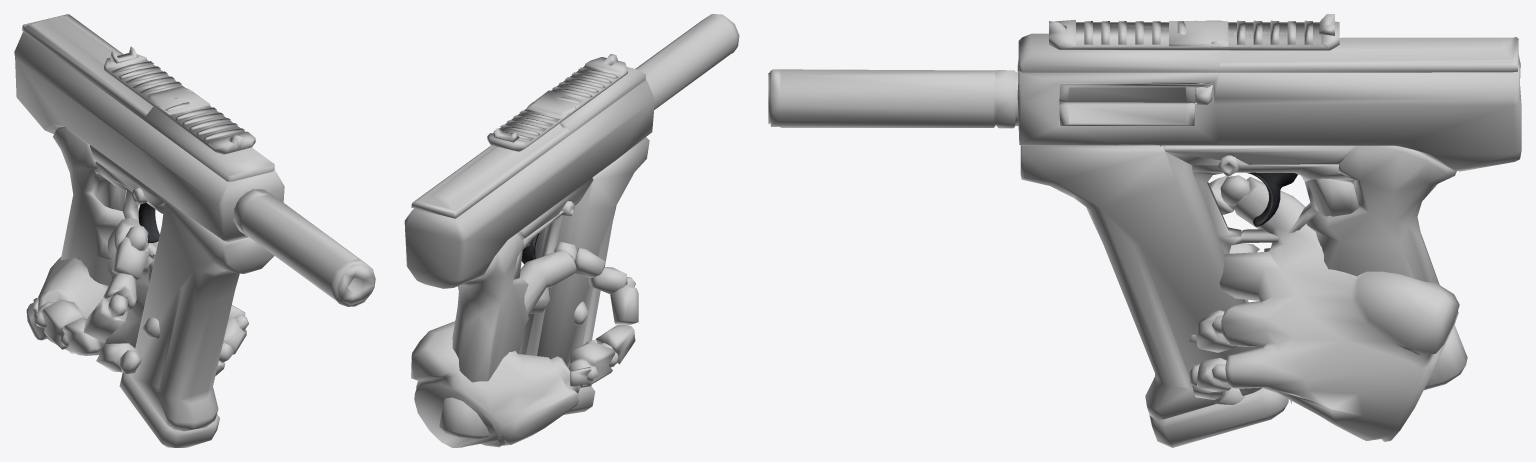
File: GripSmg.fbx
The picture shows the model from 3 angles, left to right: view 1: azimuth 30°, elevation 25°; view 2: azimuth 150°, elevation 25°; view 3: azimuth 270°, elevation 25°; orthographic projection. The views are drawn at different scales.
Parts seen in each view (by area): view 1: Smg, Hand_hand_palm, Hand_index_tip, Hand_thum_mid, Hand_index_mid, Hand_thum_tip, Hand_index_joint2, Hand_middle_tip, Trigger, Hand_pinky_base, Hand_middle_joint3, Hand_index_joint1; view 2: Smg, Hand_hand_palm, Hand_index_tip, Hand_thum_mid, Hand_thum_tip, Hand_index_joint2, Hand_index_mid; view 3: Smg, Hand_hand_palm, Trigger, Hand_ring_base, Hand_pinky_base.
Boxes of the visible parts, x1=… form: Smg: x1=14, y1=14, x2=375, y2=447; Hand_hand_palm: x1=26, y1=218, x2=245, y2=355; Hand_index_tip: x1=84, y1=294, x2=127, y2=341; Hand_thum_mid: x1=41, y1=299, x2=84, y2=349; Hand_index_mid: x1=112, y1=237, x2=150, y2=280; Hand_thum_tip: x1=63, y1=317, x2=105, y2=353; Hand_index_joint2: x1=103, y1=273, x2=136, y2=310; Hand_middle_tip: x1=96, y1=343, x2=141, y2=372; Trigger: x1=138, y1=202, x2=159, y2=242; Hand_pinky_base: x1=223, y1=318, x2=246, y2=354; Hand_middle_joint3: x1=120, y1=350, x2=141, y2=373; Hand_index_joint1: x1=125, y1=226, x2=148, y2=250; Smg: x1=404, y1=14, x2=739, y2=439; Hand_hand_palm: x1=411, y1=250, x2=580, y2=447; Hand_index_tip: x1=610, y1=277, x2=638, y2=325; Hand_thum_mid: x1=569, y1=342, x2=615, y2=385; Hand_thum_tip: x1=595, y1=325, x2=635, y2=364; Hand_index_joint2: x1=588, y1=267, x2=627, y2=294; Hand_index_mid: x1=575, y1=248, x2=605, y2=277; Smg: x1=768, y1=14, x2=1521, y2=447; Hand_hand_palm: x1=1219, y1=176, x2=1459, y2=441; Trigger: x1=1248, y1=172, x2=1297, y2=226; Hand_ring_base: x1=1196, y1=310, x2=1236, y2=352; Hand_pinky_base: x1=1196, y1=358, x2=1230, y2=391.
Bounding box in the file's own units: 0.162 × 0.3062 × 0.5.
